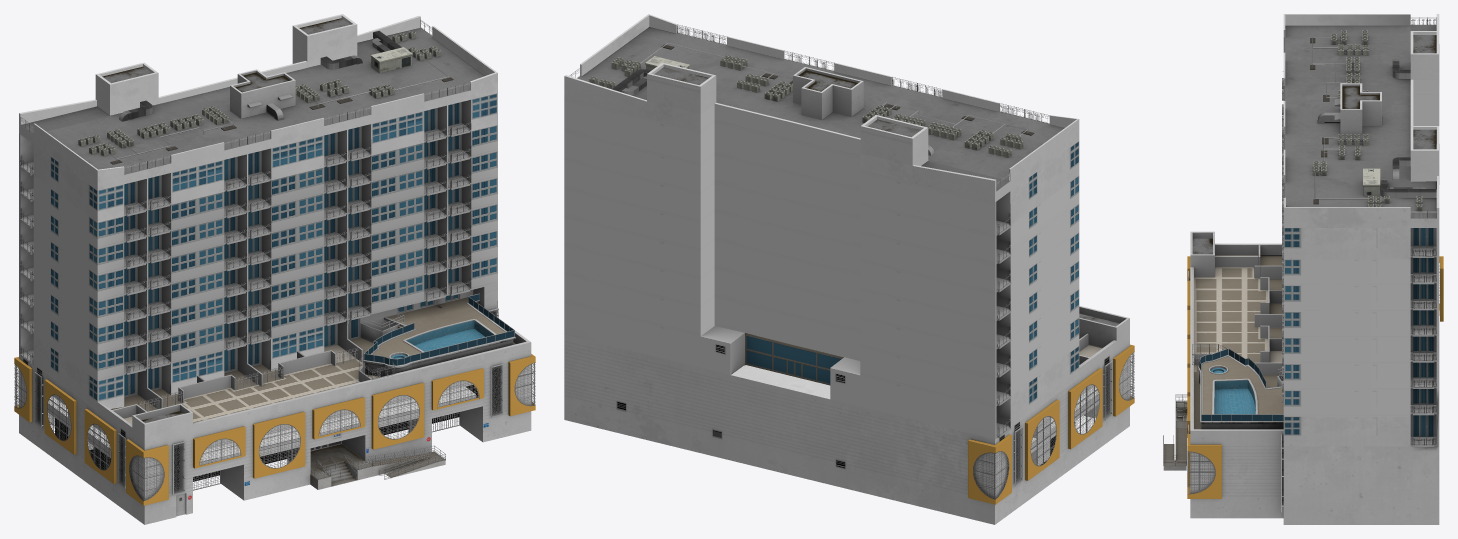
The picture shows the model from 3 angles, left to right: view 1: azimuth 30°, elevation 25°; view 2: azimuth 150°, elevation 25°; view 3: azimuth 270°, elevation 25°; orthographic projection. The views are drawn at different scales.
Parts seen in each view (by area): view 1: Edgewater Lofts; view 2: Edgewater Lofts; view 3: Edgewater Lofts.
Boxes of the visible parts, box(x1,y1,x2,y2) form: Edgewater Lofts: box(14, 14, 535, 524); Edgewater Lofts: box(564, 14, 1134, 524); Edgewater Lofts: box(1163, 14, 1443, 524).
Bounding box in the file's own units: 47.32 × 38.11 × 28.61.
1 material, 1 textured.
